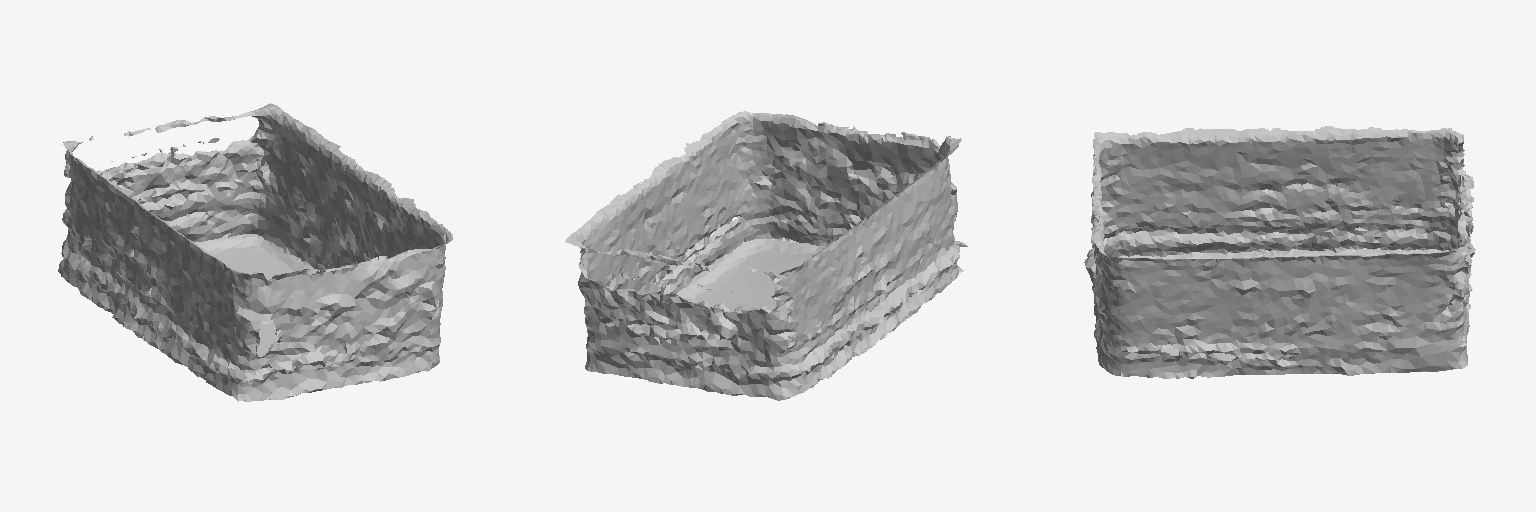
Rendered from OldBox10000.obj.
3 views of the same model, side by side, from view 1: azimuth 30°, elevation 25°; view 2: azimuth 150°, elevation 25°; view 3: azimuth 270°, elevation 25° (orthographic).
Size of the model in its own units: 0.4952 by 0.2969 by 0.6996.